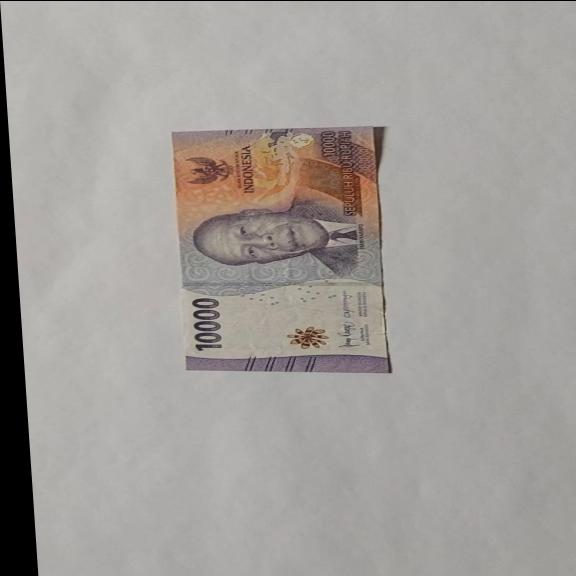Kertas: (166, 125, 396, 374), (188, 296, 225, 352)
